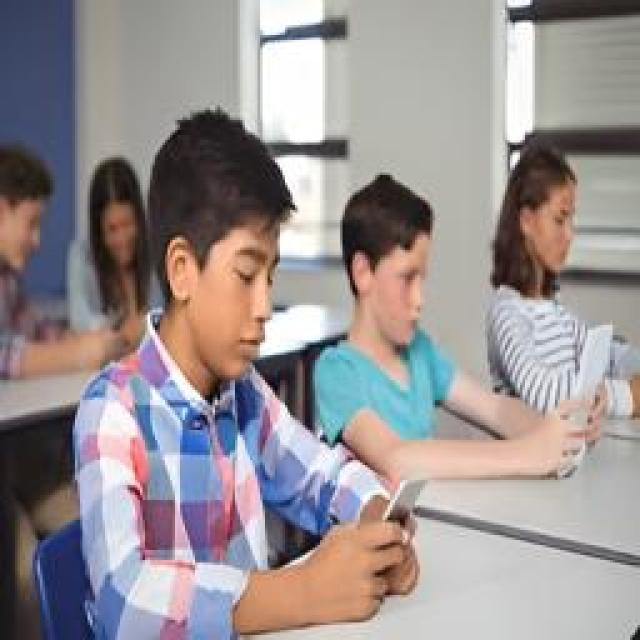phone: (75, 107, 425, 625), (315, 172, 610, 488)
